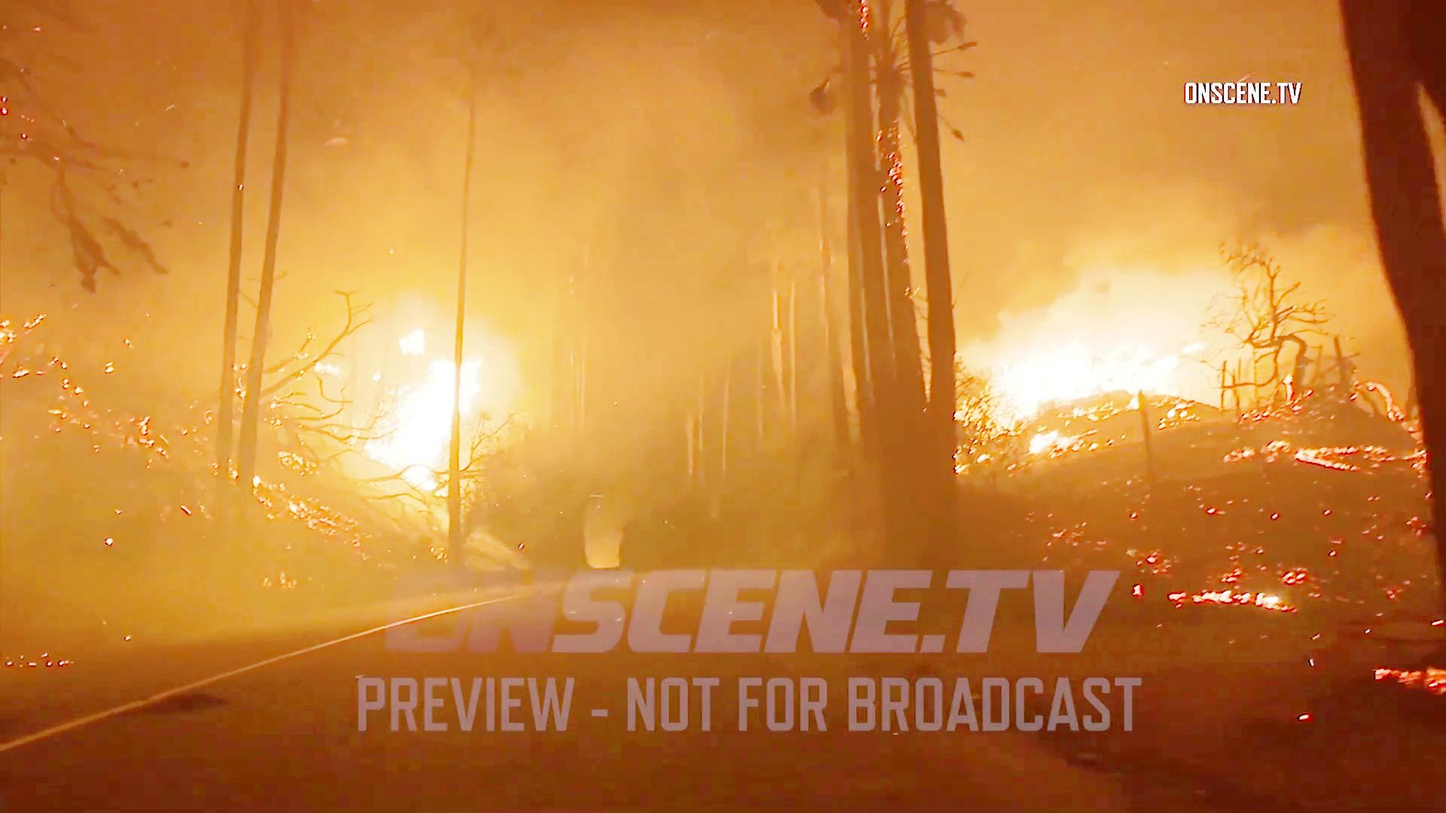fire: (991, 311, 1188, 408), (373, 328, 492, 481)
